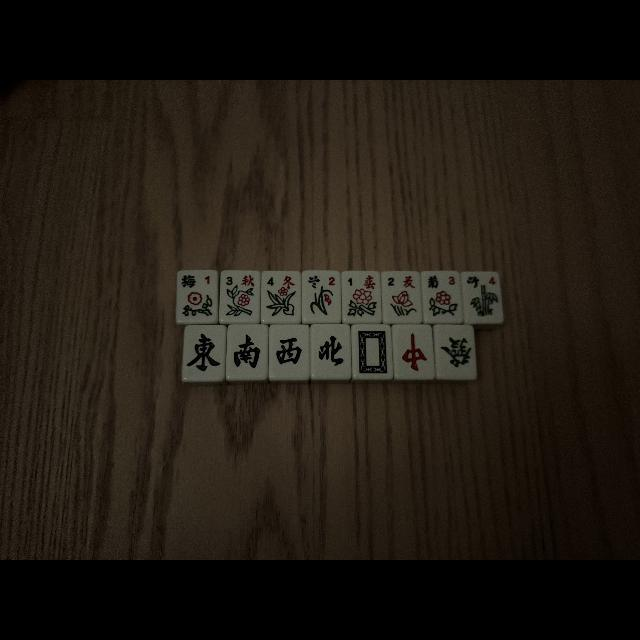dg: (435, 326, 475, 378)
dr: (393, 326, 432, 378)
dw: (352, 326, 392, 378)
f1: (178, 271, 218, 291)
f2: (304, 273, 340, 291)
f3: (424, 272, 462, 290)
f4: (462, 273, 502, 291)
s1: (341, 273, 381, 291)
s2: (382, 272, 422, 290)
s3: (220, 272, 258, 290)
s4: (264, 271, 300, 289)
we: (183, 326, 225, 380)
wn: (312, 325, 350, 377)
ws: (228, 324, 268, 380)
ww: (270, 326, 310, 378)
